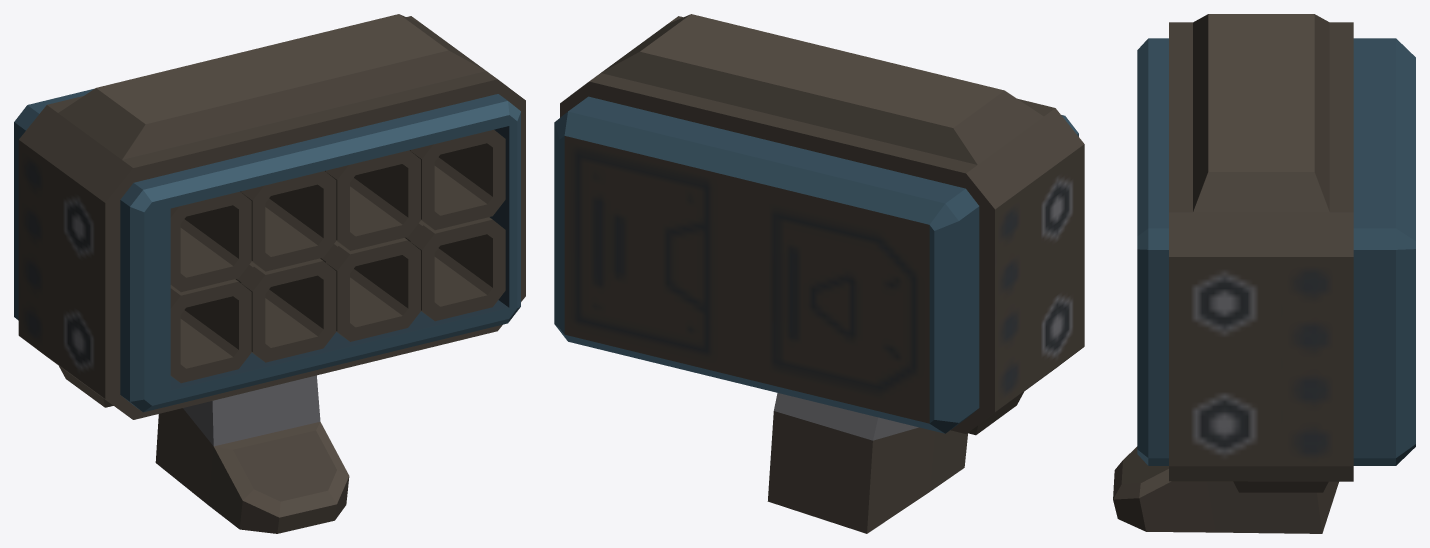
File: SM_Mech_Chest_01_Weapon_Collar_02_Empty.fbx
3 renders of one model, left to right at view 1: azimuth 30°, elevation 25°; view 2: azimuth 150°, elevation 25°; view 3: azimuth 270°, elevation 25°, orthographic. The views are drawn at different scales.
Parts seen in each view (by area): view 1: SM_Mech_Chest_01_Weapon_Collar_02_Empty; view 2: SM_Mech_Chest_01_Weapon_Collar_02_Empty; view 3: SM_Mech_Chest_01_Weapon_Collar_02_Empty.
Boxes of the visible parts, x1=… form: SM_Mech_Chest_01_Weapon_Collar_02_Empty: x1=14, y1=14, x2=525, y2=533; SM_Mech_Chest_01_Weapon_Collar_02_Empty: x1=554, y1=14, x2=1084, y2=533; SM_Mech_Chest_01_Weapon_Collar_02_Empty: x1=1113, y1=14, x2=1415, y2=533.
Bounding box in the file's own units: 72.16 × 65.77 × 42.15.
